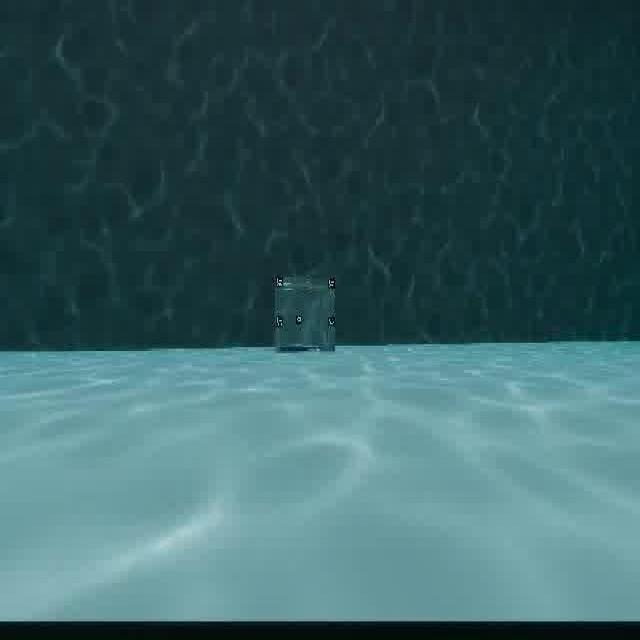Docking Station: (272, 265, 341, 360)
